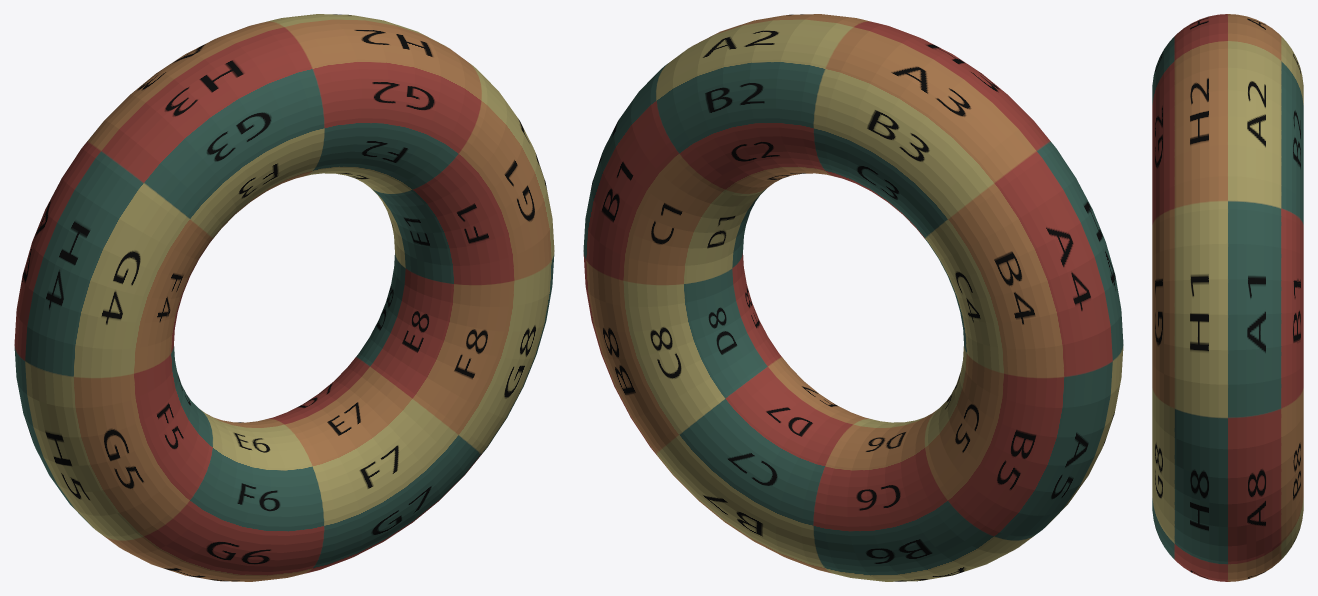
The model's file is texture_torus_R23_r27.glb.
3 renders of one model, left to right at view 1: azimuth 30°, elevation 25°; view 2: azimuth 150°, elevation 25°; view 3: azimuth 270°, elevation 25°, orthographic. The views are drawn at different scales.
Parts seen in each view (by area): view 1: world; view 2: world; view 3: world.
Part boxes in pixels (x1,y1,x2,y2): world: [14, 14, 554, 581]; world: [583, 14, 1123, 581]; world: [1152, 14, 1303, 581].
Size of the model in its own units: 34.53 by 34.47 by 9.18.
1 material, 1 textured.
